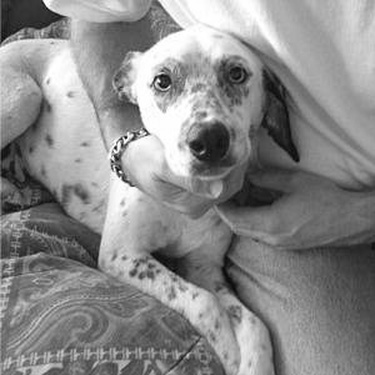dog: (3, 20, 306, 371)
